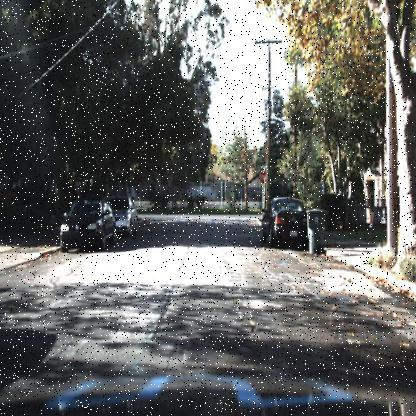car: (261, 193, 316, 253), (60, 198, 116, 253), (108, 197, 141, 233), (115, 194, 142, 238)
